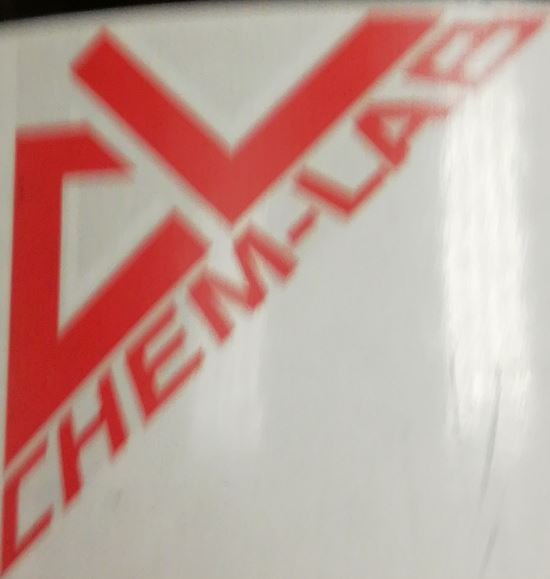ChemLab: (1, 7, 545, 576)
